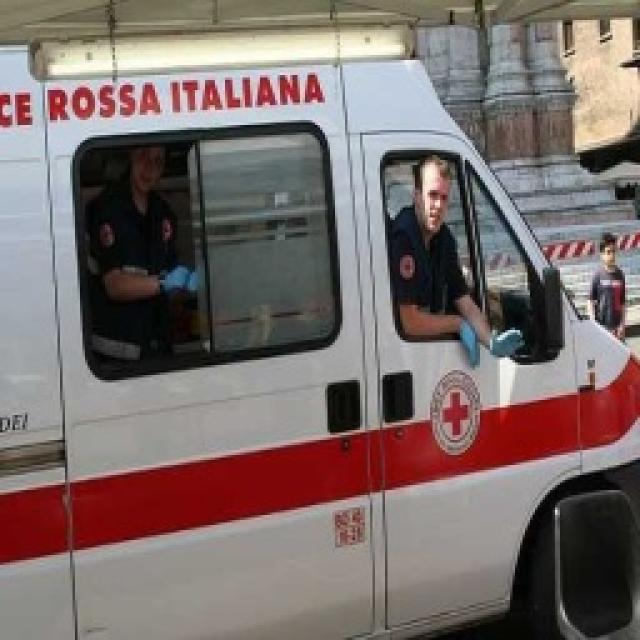ambulance: (0, 20, 638, 635), (495, 152, 640, 342)
